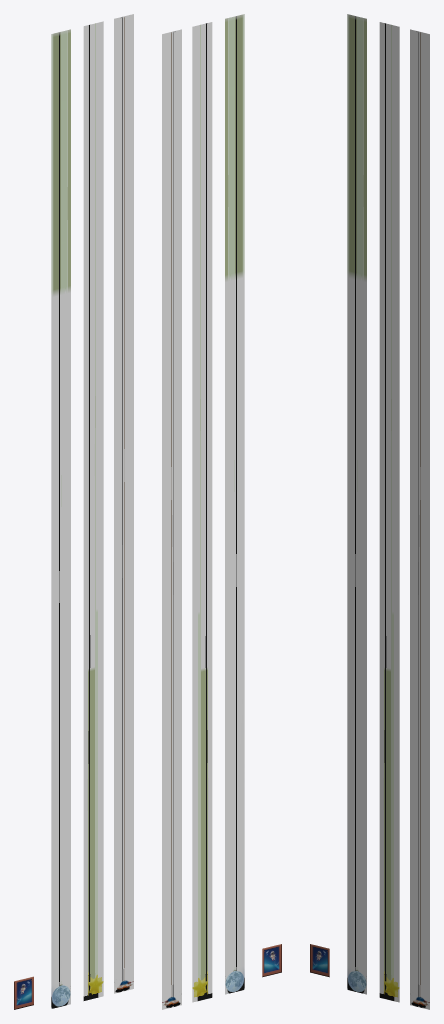
Rendered from gyerek_items.FBX.
The picture shows the model from 3 angles, left to right: view 1: azimuth 30°, elevation 25°; view 2: azimuth 210°, elevation 25°; view 3: azimuth 330°, elevation 25°; orthographic projection.
Parts seen in each view (by area): view 1: csillag, UFO, hold, urhajoskep; view 2: csillag, hold, UFO, urhajoskep; view 3: csillag, hold, UFO, urhajoskep.
Boxes of the visible parts, <box> form: csillag: <box>83,21,103,1000</box>; UFO: <box>114,14,133,993</box>; hold: <box>51,29,70,1008</box>; urhajoskep: <box>14,976,33,1009</box>; csillag: <box>192,22,212,1002</box>; hold: <box>225,14,244,994</box>; UFO: <box>162,29,181,1009</box>; urhajoskep: <box>262,944,281,977</box>; csillag: <box>379,22,399,1002</box>; hold: <box>347,14,366,994</box>; UFO: <box>410,29,429,1009</box>; urhajoskep: <box>310,944,329,977</box>.
Bounding box in the file's own units: 1.68 × 1.69e-08 × 13.05.
Materials: 3 (3 with a texture image).
